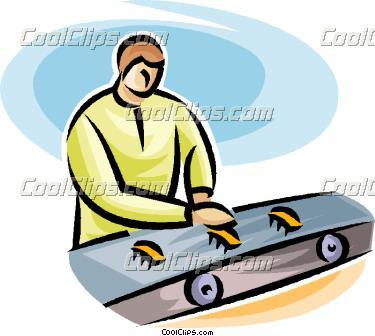person: (59, 31, 238, 261)
